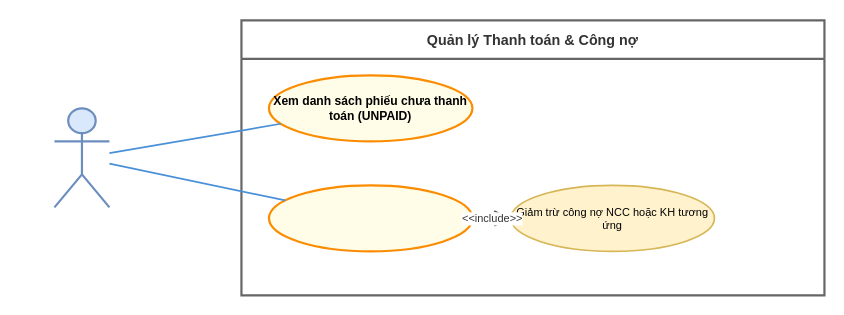
This 844x315 diagram has some shape labels left out. The centre of each missing label's shape, as x and y in pixels:
Quản trị viên (ADMIN): [81,157]
Thực hiện thanh toán (UNPAID → PAID): [370,218]
